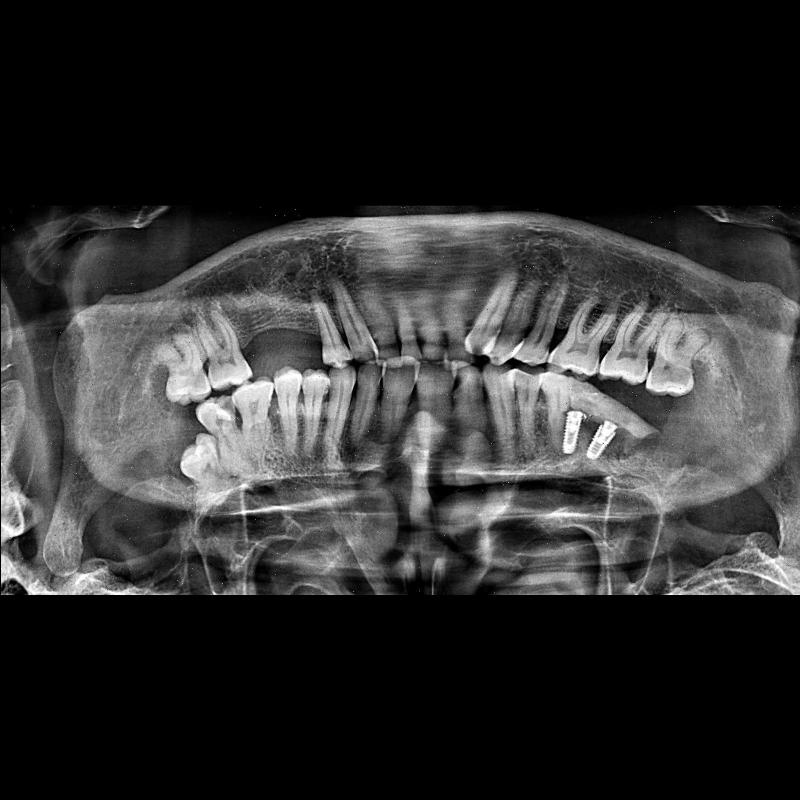osstem: (551, 410, 589, 457), (583, 416, 617, 466)
